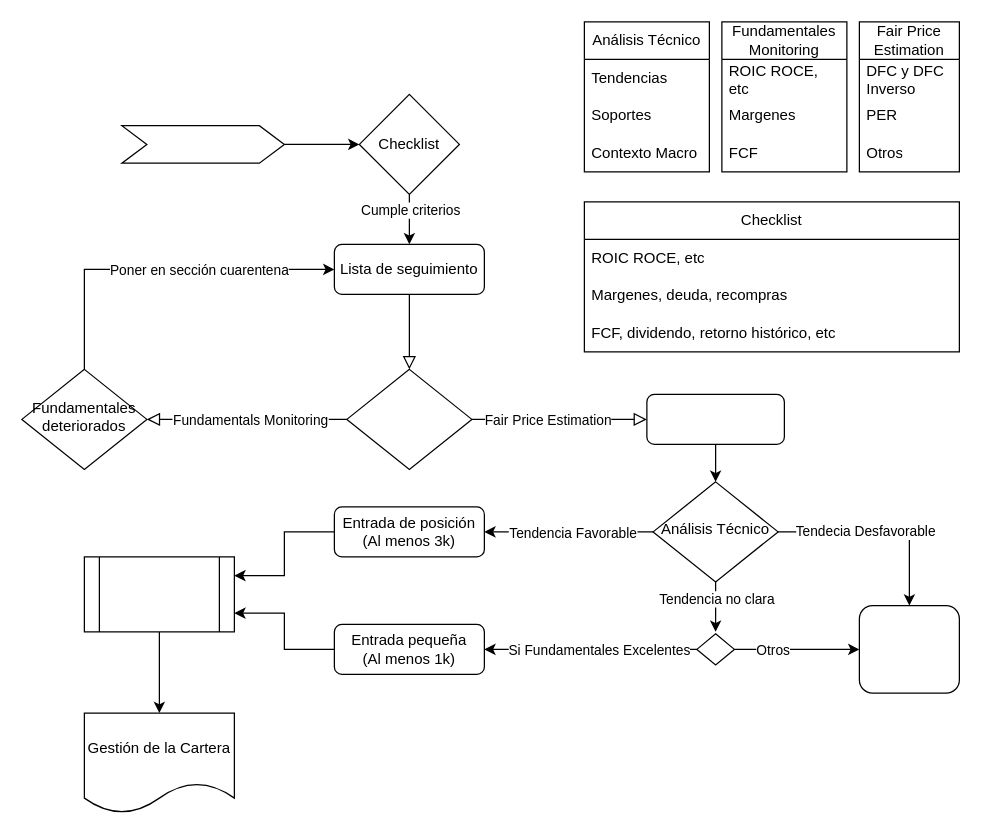
The diagram is 981 pixels wide and 835 high, and some of its shapes have lost their labels. The shapes that lost their labels are listed below. From the top down, each one's box as (x1, y1, x2, y2) in pixels, then its label:
(121, 124, 284, 163): Empresa nueva
(346, 368, 472, 469): Monitorización
(646, 393, 784, 444): Precios objetivos
(83, 556, 234, 632): Cartera
(858, 604, 959, 693): Lista de Espera de empresas en precio
